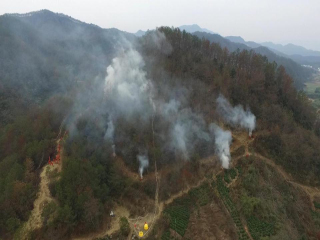smoke: (88, 32, 257, 171)
